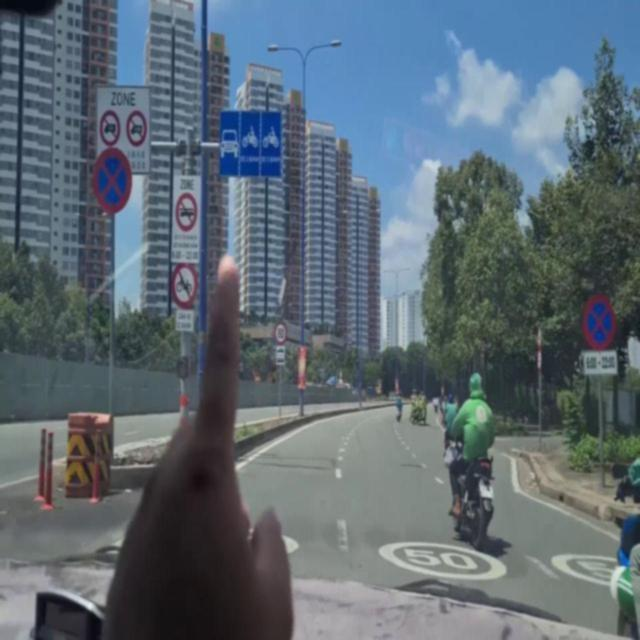Biển phụ: (579, 347, 620, 375), (173, 306, 197, 332), (274, 342, 285, 365)
Cấm các phương tiện hoạt động trong khung giờ cố định: (83, 85, 154, 172), (167, 167, 200, 263)
Cấm dừng - Cấm đỗ: (90, 140, 132, 212), (580, 288, 614, 346)
Cấm xe máy: (169, 257, 199, 305)
Giới hạn tốc độ: 80Km/h: (273, 315, 287, 342)
Làn đường cho từng xe: (218, 105, 283, 179)
